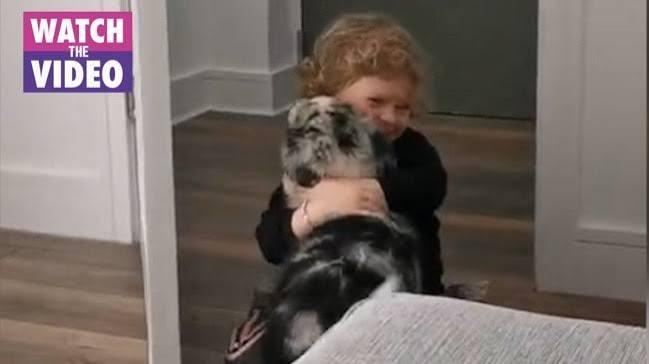adult_dog: (244, 94, 429, 364)
non-dog: (253, 13, 449, 297)
